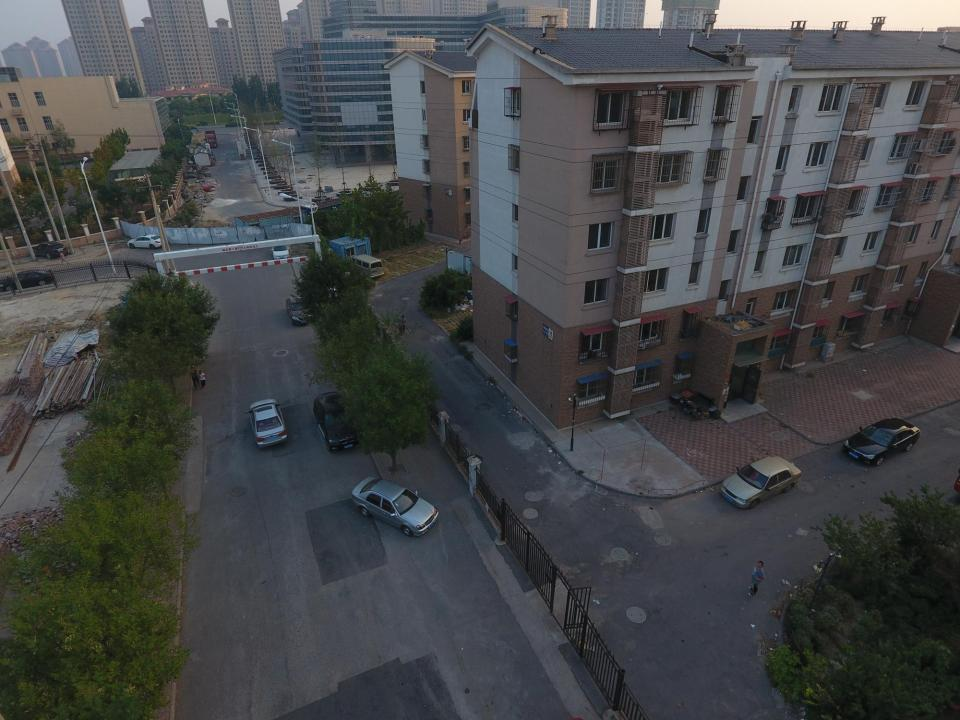car: (353, 476, 438, 534), (719, 457, 800, 507), (846, 415, 919, 467), (314, 392, 364, 450), (248, 398, 288, 448), (0, 267, 57, 291), (284, 296, 316, 326), (31, 239, 66, 260), (127, 232, 164, 249), (270, 236, 290, 266)
truck: (203, 129, 217, 148)
van: (352, 254, 386, 280)
